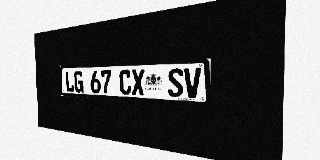6: (90, 70, 101, 93)
7: (100, 70, 112, 94)
C: (119, 70, 131, 95)
G: (74, 71, 83, 93)
L: (65, 71, 74, 92)
S: (168, 68, 183, 97)
V: (184, 68, 201, 98)
X: (131, 69, 145, 95)
